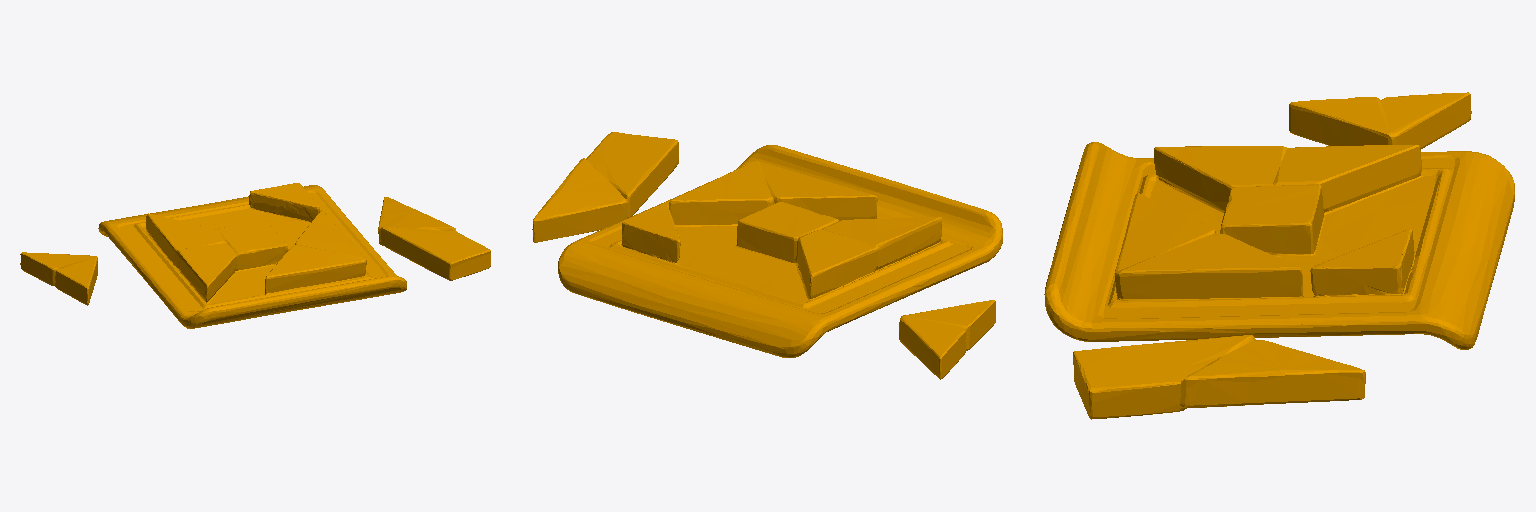
URDF robot description (TWISTED_PUZZLE_twb4AyFtu8Q):

<robot name="TWISTED_PUZZLE_twb4AyFtu8Q">
    <link name="base">
        <inertial>
            <origin xyz="4.571651038555382e-18 -2.285825519277691e-18 -1.2143448071162733e-18" />
            <mass value="0.0004940785083905315" />
            <inertia ixx="1.2292798904385612e-06" ixy="3.9526811189395497e-07" 
                     ixz="3.287016154856234e-08" iyy="2.3051642691720047e-06" 
                     iyz="-3.808171533335979e-08" izz="3.4883844142373936e-06" />
        </inertial>
        <visual>
            <origin xyz="0 0 0" />
            <geometry>
                <mesh filename="visual_geometry.obj" />
            </geometry>
        </visual>
        <collision>
            <origin xyz="0 0 0" />
            <geometry>
                <mesh filename="collision_geometry.obj" />
            </geometry>
        </collision>
    </link>
</robot>

--- Render facts (derived) ---
3 views of the same robot in one strip: view 1: azimuth 30°, elevation 25°; view 2: azimuth 150°, elevation 25°; view 3: azimuth 270°, elevation 25° (orthographic).
Model TWISTED_PUZZLE_twb4AyFtu8Q with 1 links and 0 joints (none), rooted at base, posed every joint at zero.
Links seen in each view (by area): view 1: base; view 2: base; view 3: base.
Boxes of the visible links, left/top/right/bottom form: base: left=20, top=183, right=490, bottom=328; base: left=532, top=132, right=1002, bottom=379; base: left=1044, top=92, right=1514, bottom=419.
Bounding box of the posed robot: 0.3025 × 0.204 × 0.0354 m (x, y, z).
1 mesh visuals loaded from 1 distinct referenced files (1 OBJ).